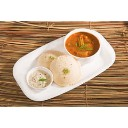idly: (53, 56, 82, 85), (38, 51, 62, 69)
